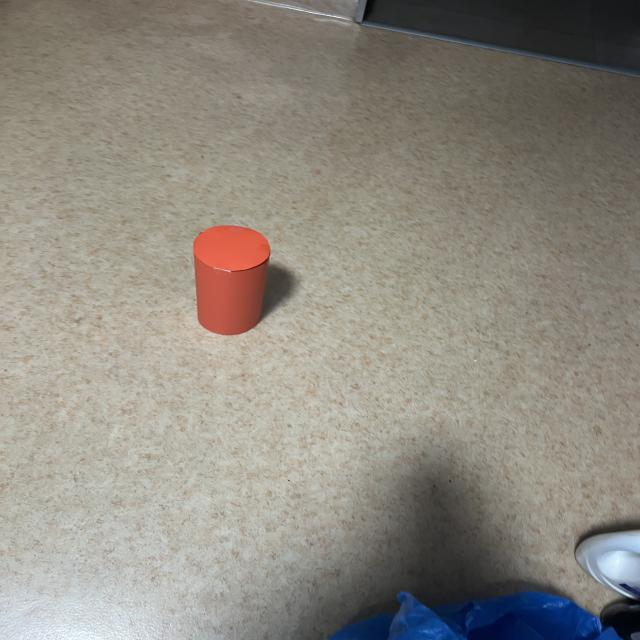przeszkoda: (193, 225, 270, 335)
